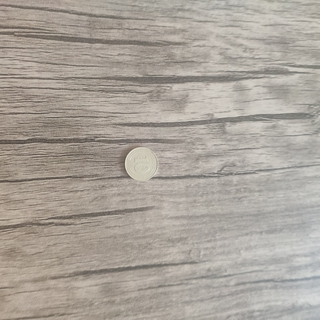10KURUS: (122, 145, 161, 183)
